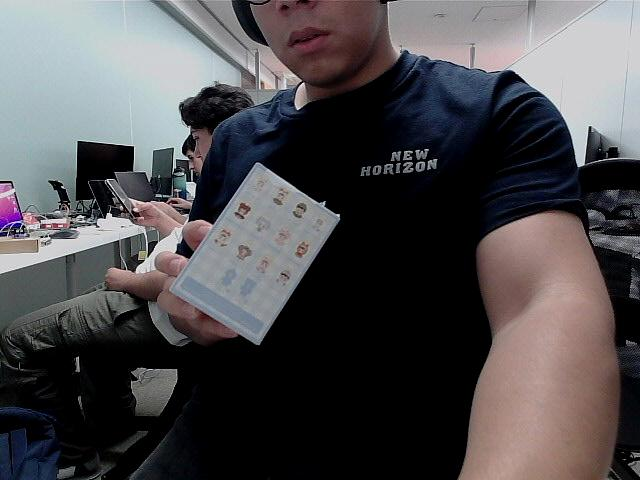Blind_box: (170, 166, 342, 352)
